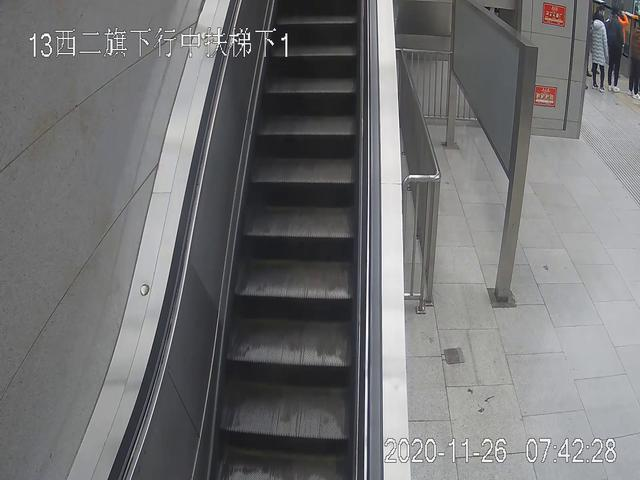person: (591, 14, 612, 91)
